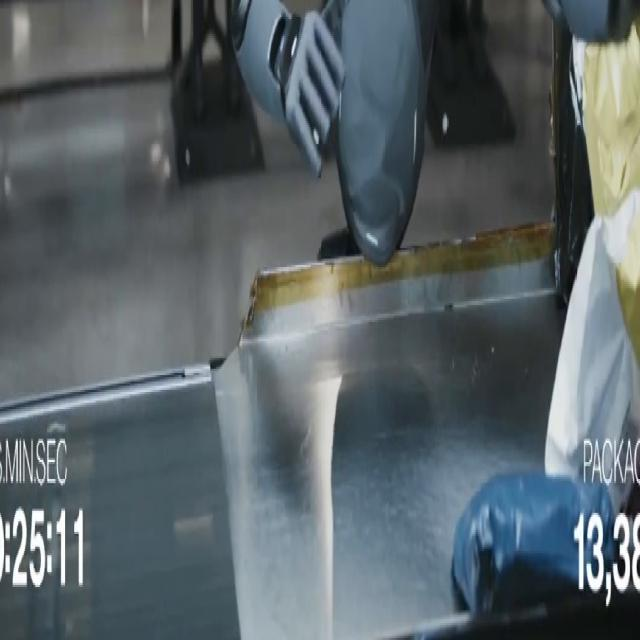package: (545, 24, 639, 508), (453, 473, 615, 614), (552, 24, 593, 305)
